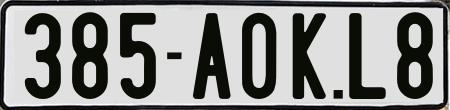0: (239, 12, 279, 100)
3: (22, 13, 59, 100)
5: (120, 11, 158, 97)
8: (396, 12, 436, 100), (72, 10, 108, 100)
A: (193, 13, 236, 103)
K: (292, 10, 325, 100)
L: (348, 12, 389, 101)
